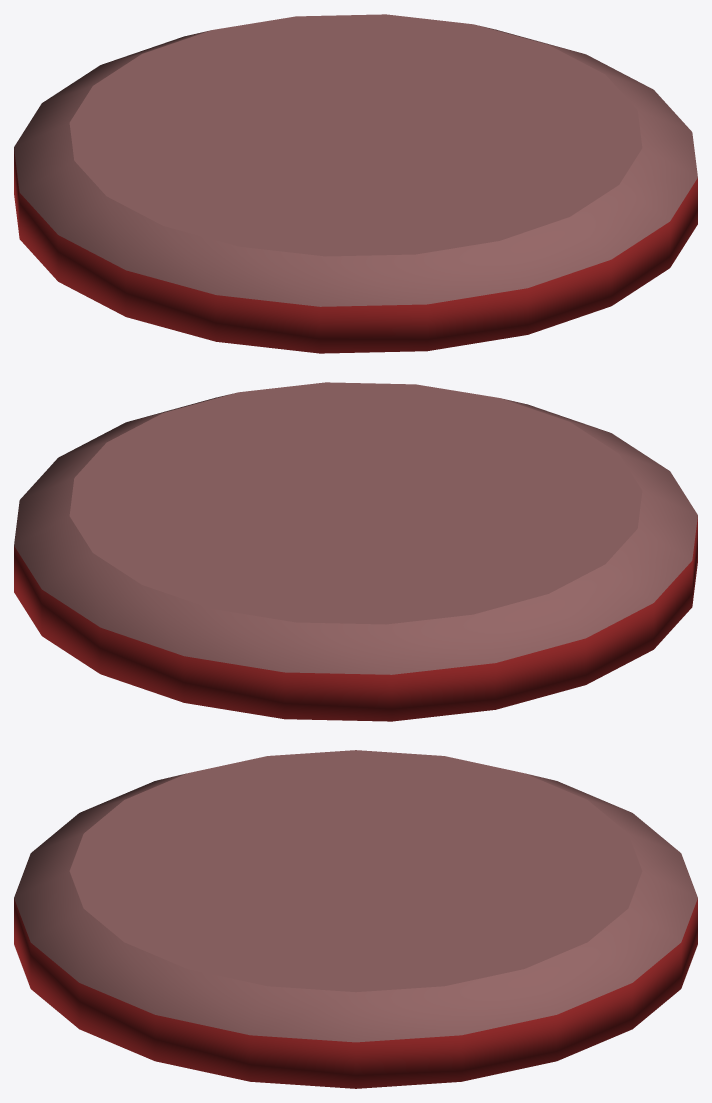
Rendered from Module_Ss_asset_ce1.FBX.
The picture shows the model from 3 angles, top to bottom: view 1: azimuth 30°, elevation 25°; view 2: azimuth 150°, elevation 25°; view 3: azimuth 270°, elevation 25°; orthographic projection.
Visible parts, largest first — view 1: Module_Ss_asset_ce1; view 2: Module_Ss_asset_ce1; view 3: Module_Ss_asset_ce1.
Part boxes in pixels (x1,y1,x2,y2): Module_Ss_asset_ce1: [14, 14, 697, 353]; Module_Ss_asset_ce1: [14, 382, 697, 721]; Module_Ss_asset_ce1: [14, 750, 697, 1088].
Bounding box in the file's own units: 28.13 × 3.32 × 28.13.
